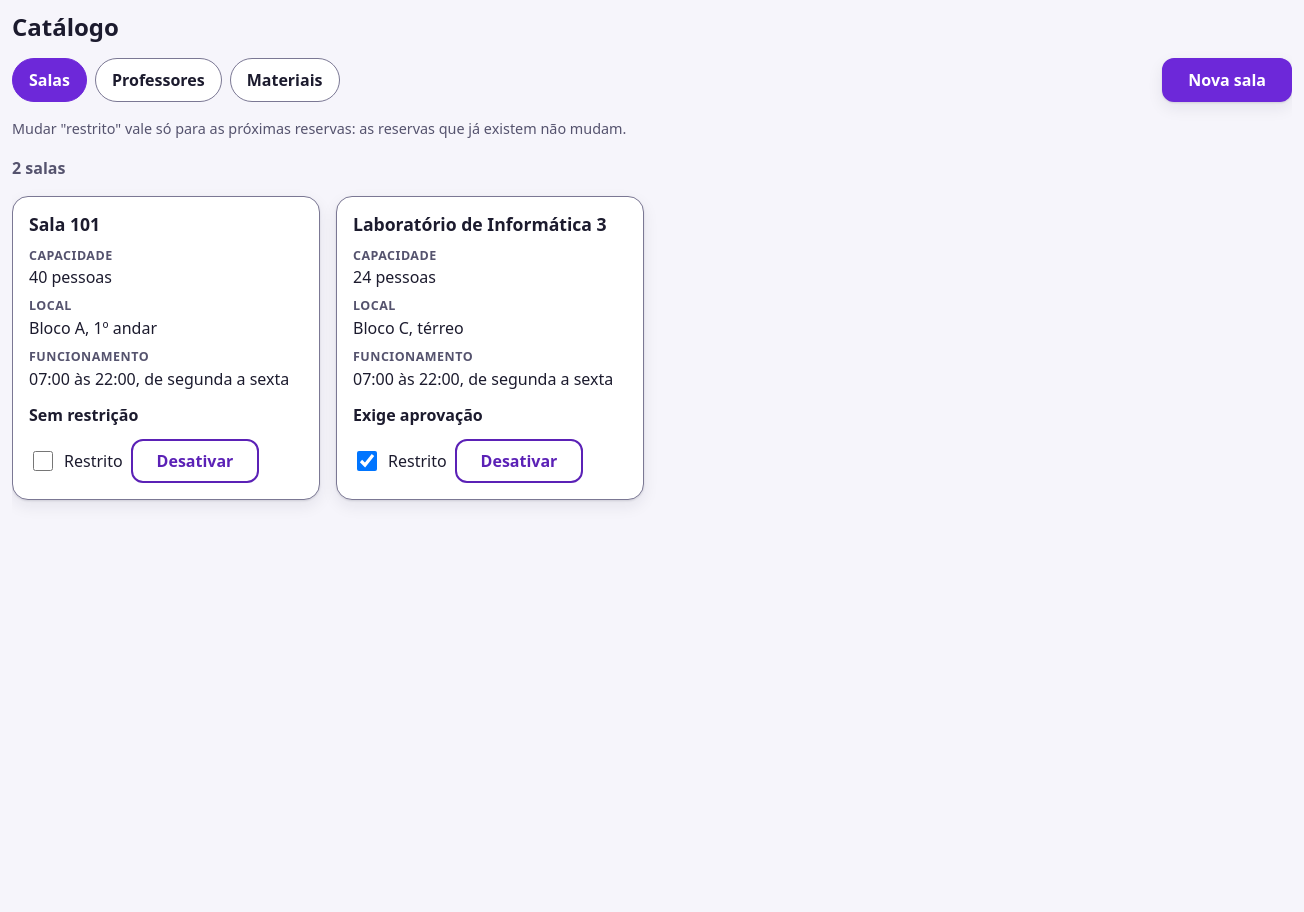
Test: PaginaDoCatalogo: restrito › 500 ERRO_INTERNO: a mensagem e a ação da tabela de erros aparecem no cartão, com o foco, e a caixa volta a funcionar
This screenshot has width=1304, height=912.
Click the checkbox named "Restrito Sala 101".
click(43, 461)  # box [33,451,53,471]
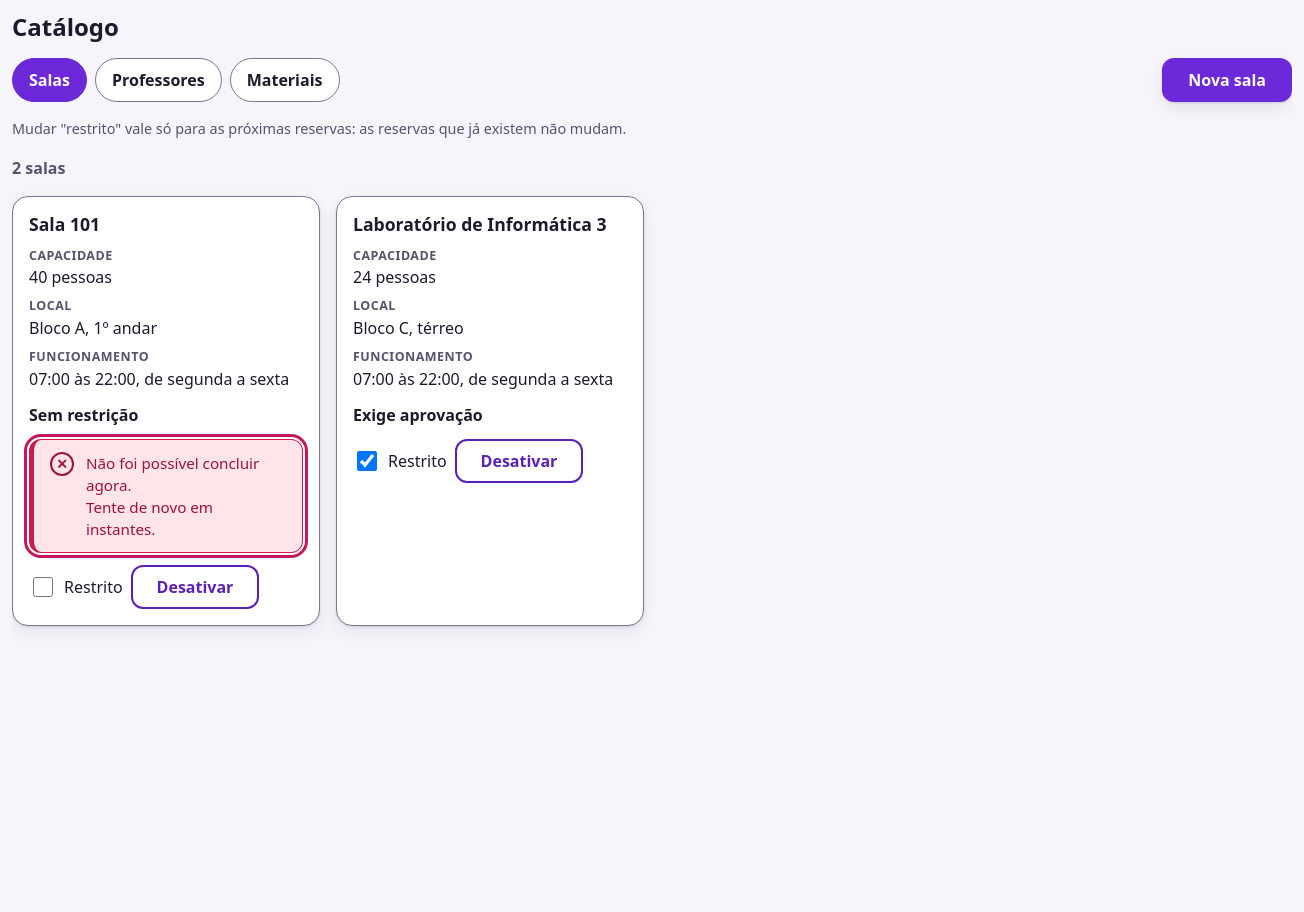
Check: the checkbox named "Restrito Sala 101" is enabled, box [33,577,53,597]
Check: the message shows "Não foi possível concluir agora.", box [86,453,259,495]
Check: the message shows "Tente de novo em instantes.", box [86,497,213,539]
